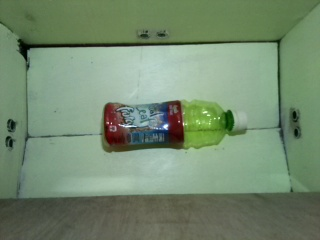bottle: (99, 99, 248, 153)
